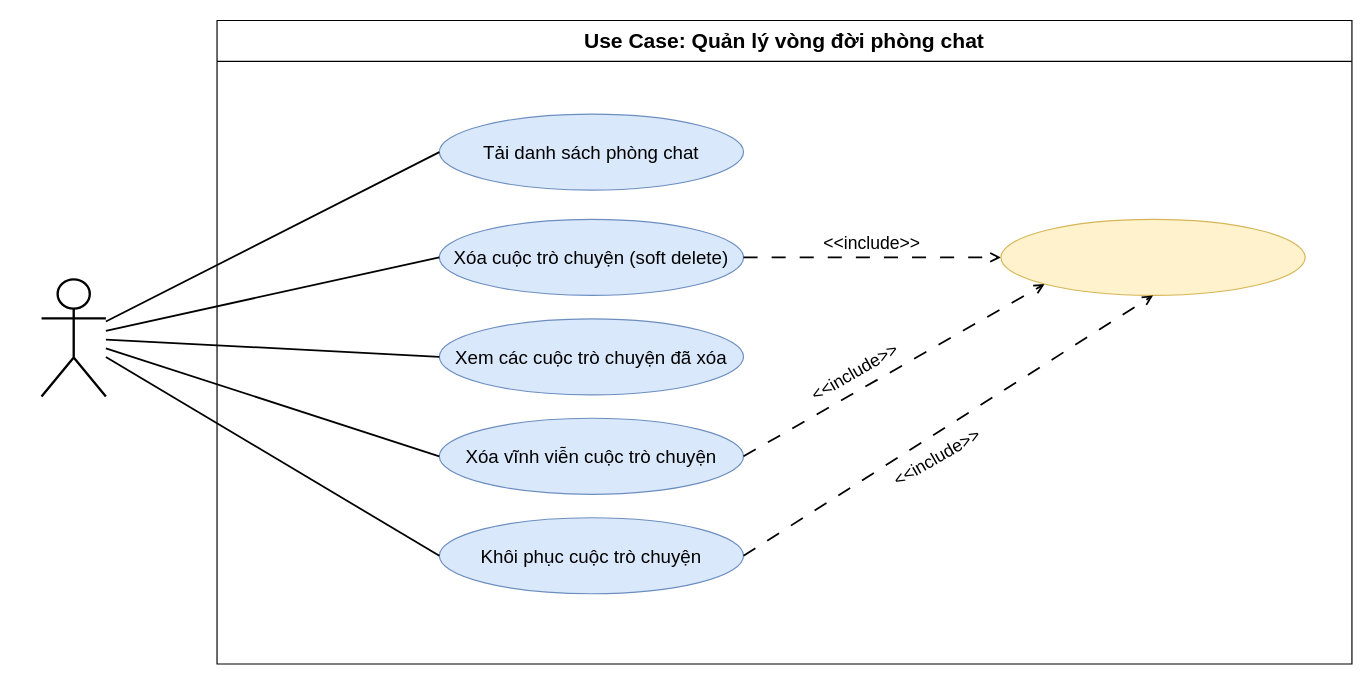
Some shapes in this 1372 by 684 pixel diagram are drawn without their labels. Each missing label, with the centre of its shape:
Kiểm tra thành viên phòng: point (1152, 256)
Người dùng: point (73, 337)
